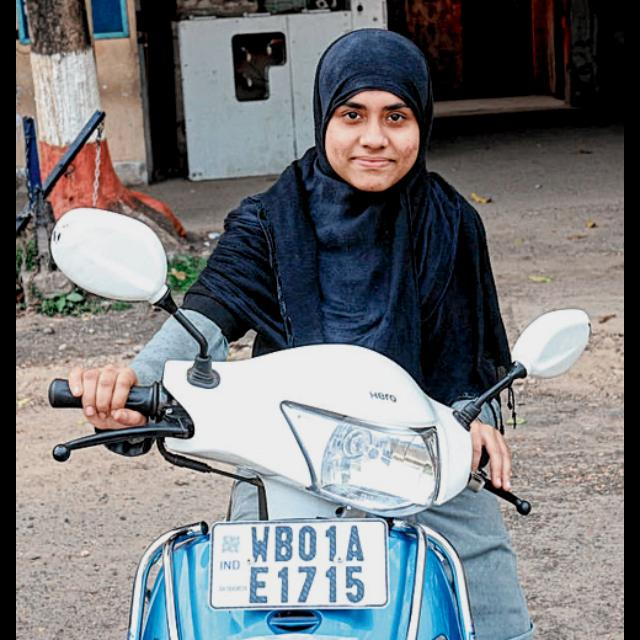Without Helmet: (304, 25, 442, 196)
